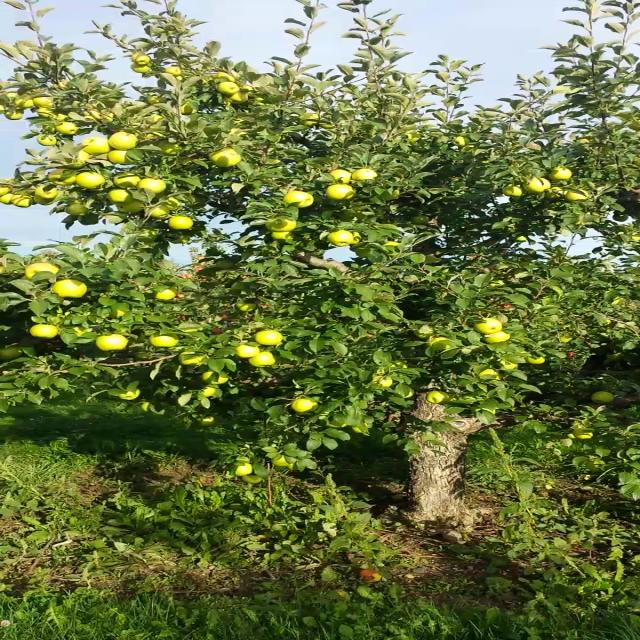apple: (210, 147, 241, 167), (52, 280, 87, 297), (283, 190, 312, 208), (109, 132, 137, 150), (97, 334, 128, 350), (266, 216, 295, 232), (78, 171, 103, 189), (26, 263, 58, 277), (149, 332, 178, 347), (83, 138, 110, 154), (50, 169, 76, 185), (328, 184, 354, 200), (328, 231, 354, 247), (113, 174, 141, 188), (30, 324, 58, 338), (474, 318, 502, 332), (108, 150, 134, 164), (254, 331, 280, 345), (249, 352, 275, 366), (524, 178, 550, 192), (180, 352, 209, 364), (116, 201, 144, 213), (142, 179, 164, 194), (109, 189, 132, 203), (428, 337, 451, 351), (0, 345, 23, 359), (203, 371, 229, 383), (292, 400, 318, 412), (484, 332, 510, 344), (590, 392, 615, 404), (550, 167, 571, 181), (169, 217, 193, 229), (234, 345, 260, 356), (157, 286, 177, 300), (161, 197, 181, 211), (331, 170, 354, 182), (35, 186, 57, 198), (382, 241, 400, 255), (567, 190, 588, 202), (572, 428, 593, 440), (353, 169, 378, 179), (55, 121, 77, 132), (428, 391, 448, 403), (161, 140, 178, 154), (219, 82, 237, 95), (33, 195, 56, 205), (150, 205, 169, 217), (17, 95, 33, 109), (236, 462, 252, 476), (468, 406, 496, 414), (37, 135, 57, 146), (12, 196, 32, 207), (241, 473, 263, 483), (272, 231, 294, 241), (496, 359, 516, 370), (479, 370, 501, 380), (228, 93, 246, 105), (402, 130, 420, 142), (66, 205, 87, 215), (272, 454, 289, 466), (120, 389, 140, 399), (78, 150, 89, 168), (145, 114, 163, 125), (132, 53, 148, 65), (302, 114, 318, 126), (410, 214, 429, 224), (549, 187, 568, 197), (74, 326, 93, 336), (35, 98, 53, 108), (164, 66, 182, 76), (216, 72, 234, 82), (504, 187, 522, 197), (374, 376, 391, 386), (454, 137, 471, 147), (7, 92, 21, 104), (100, 112, 114, 124), (324, 421, 348, 428), (0, 194, 16, 204), (524, 356, 544, 364), (170, 236, 190, 244), (148, 96, 167, 104), (132, 64, 150, 72), (0, 180, 9, 196), (7, 110, 21, 120), (182, 103, 196, 113), (85, 110, 98, 120), (38, 109, 54, 117), (50, 113, 66, 121), (204, 385, 214, 397), (352, 233, 362, 245), (237, 304, 256, 310), (112, 310, 125, 318), (140, 402, 150, 412), (201, 417, 211, 426), (352, 426, 363, 434), (558, 338, 574, 343), (566, 432, 576, 438), (0, 106, 7, 114), (407, 387, 412, 398)
